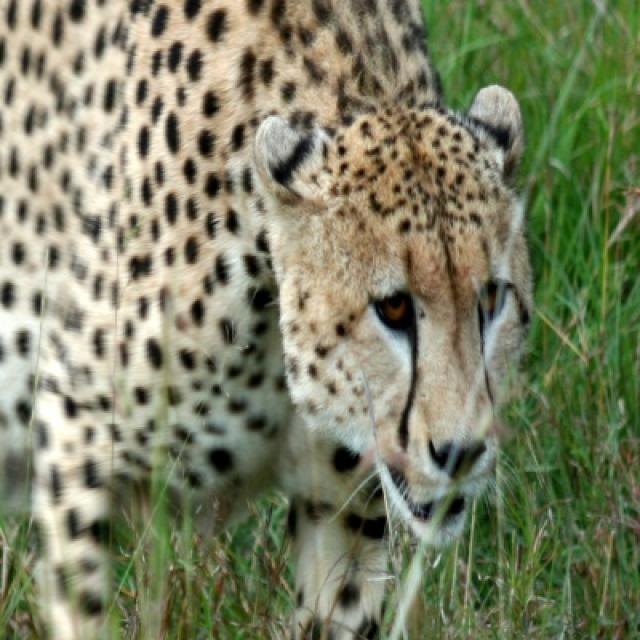Cheetah: (0, 0, 531, 638)
